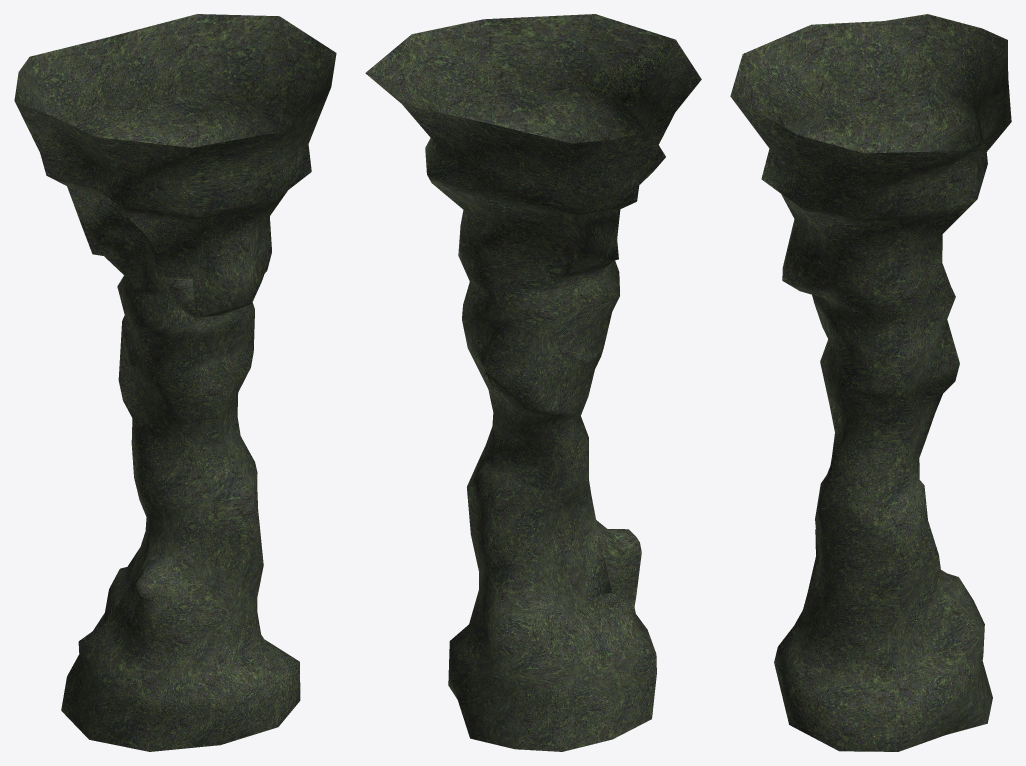
Rendered from rock_pillar_06.fbx.
3 views of the same model, side by side, from view 1: azimuth 30°, elevation 25°; view 2: azimuth 150°, elevation 25°; view 3: azimuth 270°, elevation 25° (orthographic).
Visible parts, largest first — view 1: rock_pillar_06; view 2: rock_pillar_06; view 3: rock_pillar_06.
Part boxes in pixels (x1,y1,x2,y2): rock_pillar_06: [14, 14, 336, 751]; rock_pillar_06: [365, 14, 701, 751]; rock_pillar_06: [730, 14, 1011, 751].
Size of the model in its own units: 47.06 by 98.72 by 39.91.
